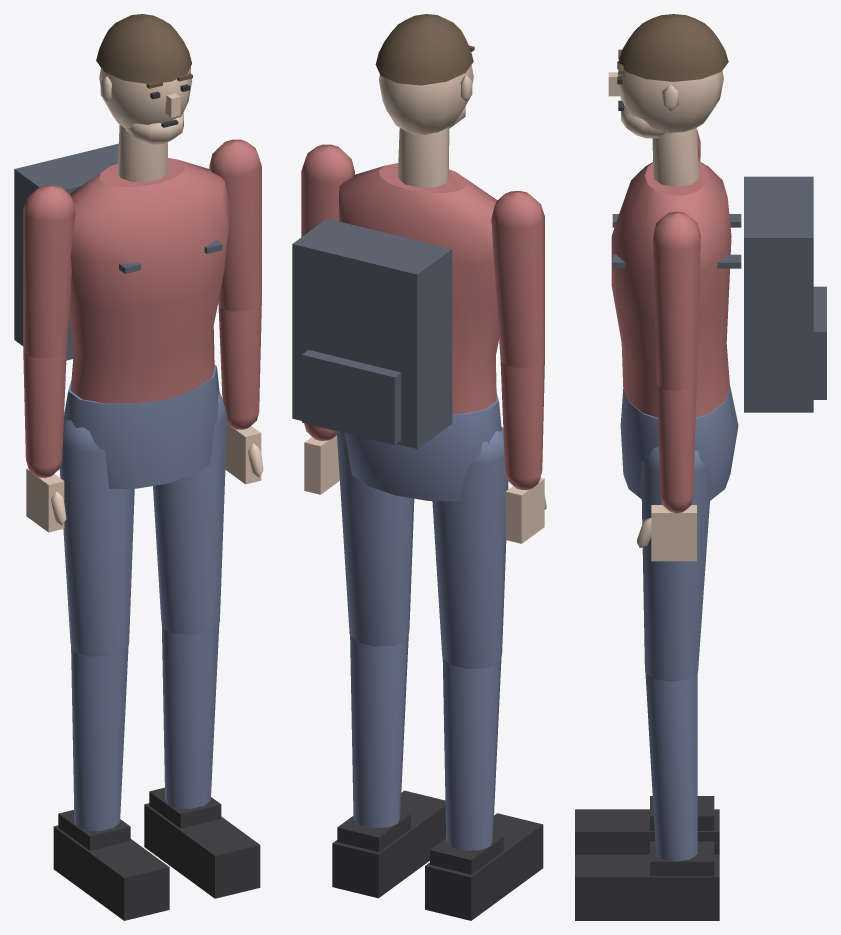
The model's file is Passenger.glb.
The picture shows the model from 3 angles, left to right: view 1: azimuth 30°, elevation 25°; view 2: azimuth 150°, elevation 25°; view 3: azimuth 270°, elevation 25°; orthographic projection. The views are drawn at different scales.
Parts seen in each view (by area): view 1: Spine, UpperLeg_R, UpperLeg_L, Hips, Head, LowerLeg_R, LowerLeg_L, Foot_R, Foot_L, UpperArm_R, UpperArm_L, Backpack (+5 smaller); view 2: Backpack, Spine, UpperLeg_R, UpperLeg_L, LowerLeg_R, LowerLeg_L, Head, UpperArm_R, Hips, Foot_R, Foot_L, LowerArm_R (+4 smaller); view 3: Backpack, Spine, Head, Foot_L, UpperLeg_L, LowerLeg_L, UpperArm_L, Hips, Foot_R, LowerArm_L, Hand_L, Neck.
Boxes of the visible parts, x1=… form: Spine: x1=69, y1=158, x2=231, y2=403; UpperLeg_R: x1=59, y1=420, x2=134, y2=656; UpperLeg_L: x1=153, y1=392, x2=227, y2=634; Hips: x1=64, y1=365, x2=219, y2=488; Head: x1=96, y1=14, x2=192, y2=144; LowerLeg_R: x1=71, y1=645, x2=128, y2=830; LowerLeg_L: x1=161, y1=623, x2=219, y2=808; Foot_R: x1=53, y1=810, x2=169, y2=920; Foot_L: x1=144, y1=787, x2=260, y2=898; UpperArm_R: x1=23, y1=185, x2=75, y2=358; UpperArm_L: x1=209, y1=139, x2=261, y2=311; Backpack: x1=14, y1=143, x2=222, y2=360; Backpack: x1=292, y1=218, x2=452, y2=448; Spine: x1=338, y1=163, x2=498, y2=413; UpperLeg_R: x1=432, y1=426, x2=508, y2=668; UpperLeg_L: x1=336, y1=431, x2=414, y2=646; LowerLeg_R: x1=442, y1=656, x2=501, y2=850; LowerLeg_L: x1=350, y1=635, x2=408, y2=827; Head: x1=375, y1=14, x2=474, y2=135; UpperArm_R: x1=491, y1=191, x2=544, y2=368; Hips: x1=344, y1=393, x2=501, y2=501; Foot_R: x1=425, y1=813, x2=543, y2=920; Foot_L: x1=332, y1=790, x2=445, y2=898; LowerArm_R: x1=500, y1=359, x2=544, y2=489; Backpack: x1=612, y1=176, x2=826, y2=412; Spine: x1=611, y1=161, x2=731, y2=417; Head: x1=608, y1=14, x2=728, y2=138; Foot_L: x1=575, y1=841, x2=719, y2=920; UpperLeg_L: x1=641, y1=447, x2=711, y2=681; LowerLeg_L: x1=645, y1=672, x2=697, y2=863; UpperArm_L: x1=653, y1=211, x2=700, y2=391; Hips: x1=620, y1=386, x2=738, y2=500; Foot_R: x1=575, y1=796, x2=719, y2=854; LowerArm_L: x1=657, y1=385, x2=696, y2=513; Hand_L: x1=637, y1=505, x2=696, y2=561; Neck: x1=652, y1=128, x2=698, y2=186.
Bounding box in the file's own units: 0.5057 × 1.76 × 0.4606.
